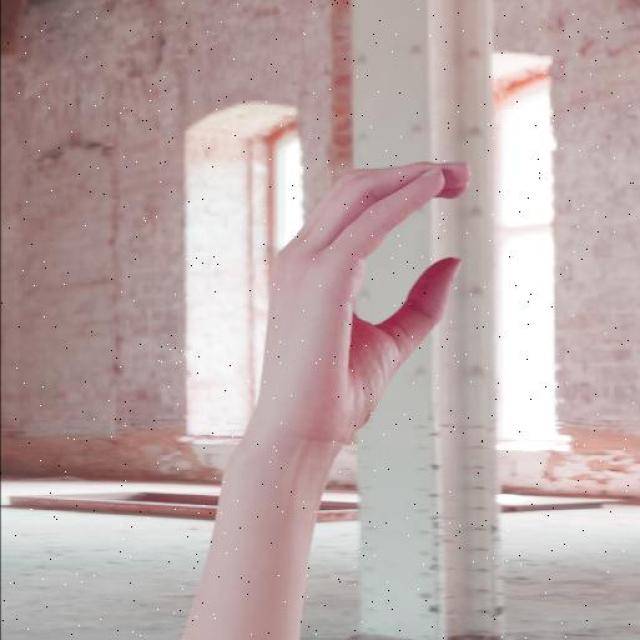C: (248, 156, 477, 459)
